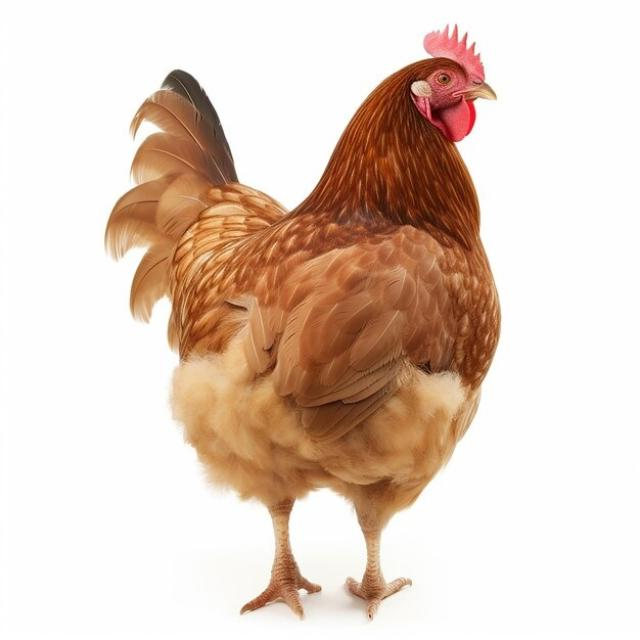Chicken: (106, 21, 503, 622)
